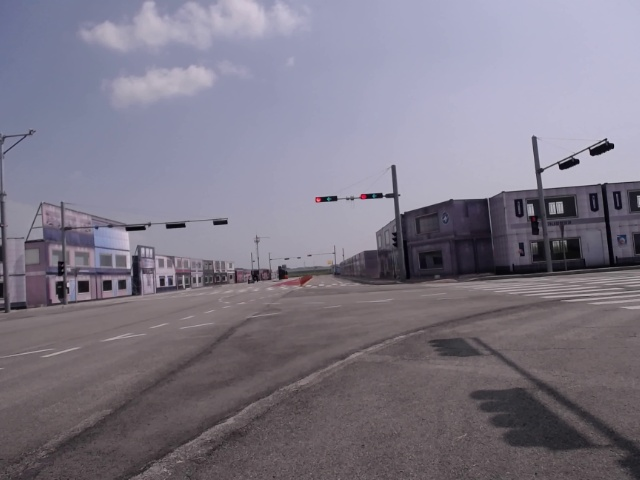left_green_4: (315, 197, 336, 203), (360, 194, 383, 199)
